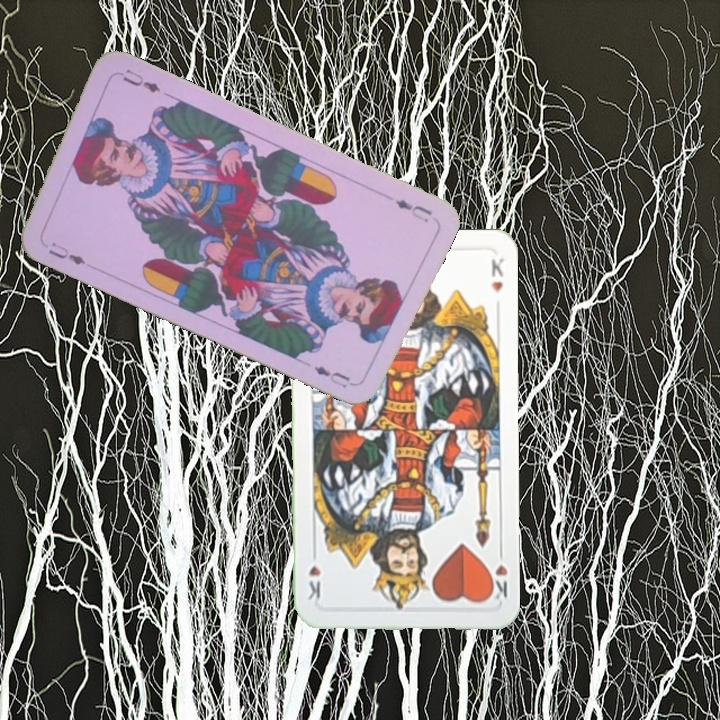EU: (390, 195, 435, 226), (44, 238, 88, 268)
HK: (484, 544, 510, 602)
